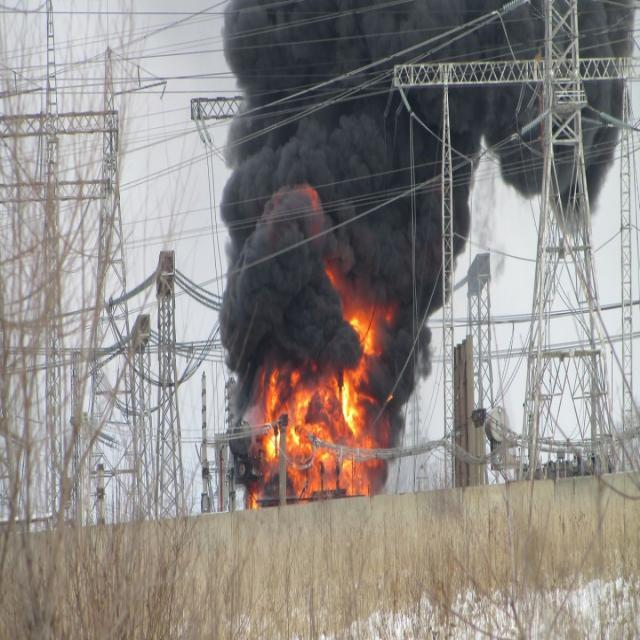Fire: (261, 368, 368, 496), (350, 311, 383, 359)
Smoke: (220, 0, 628, 451)
